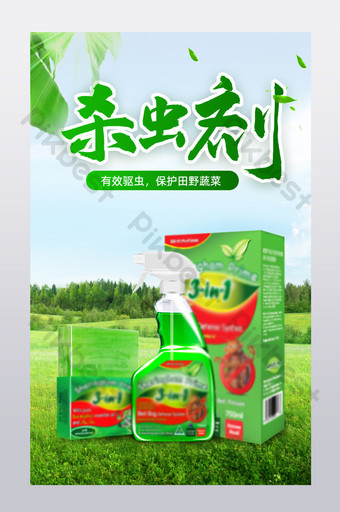Insecticide: (122, 245, 218, 445)
